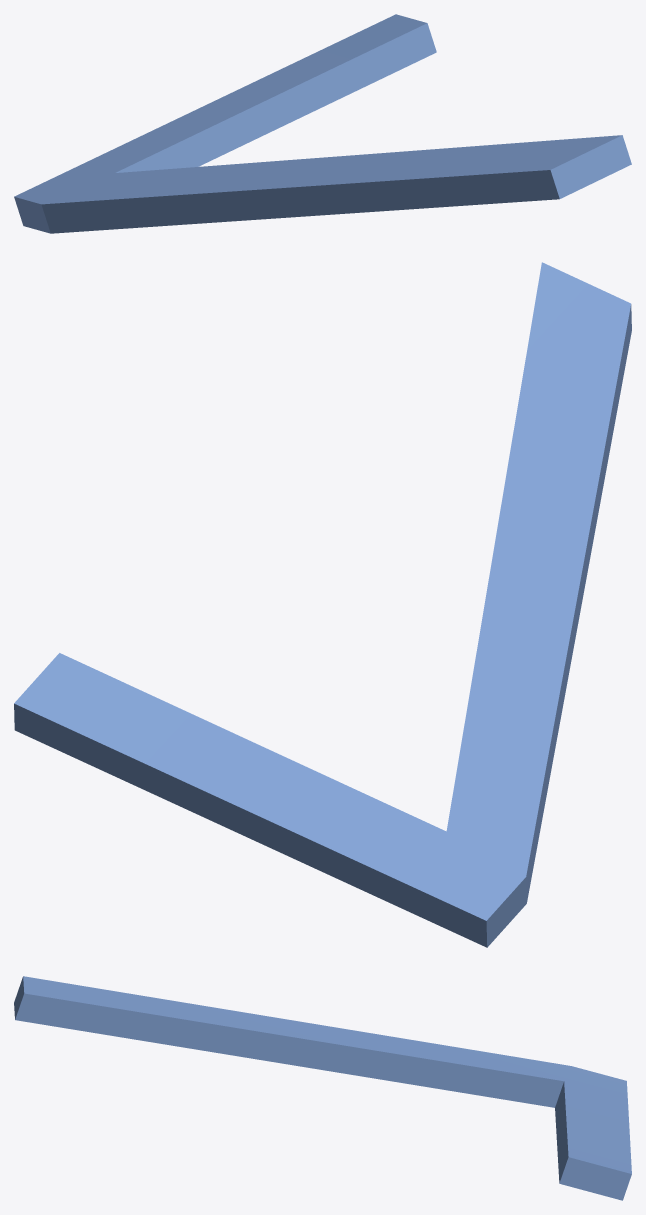
File: New_Number_7.gltf
3 views of the same model, one above another, from view 1: azimuth 30°, elevation 25°; view 2: azimuth 150°, elevation 25°; view 3: azimuth 270°, elevation 25° (orthographic). The views are drawn at different scales.
Parts seen in each view (by area): view 1: Part 691; view 2: Part 691; view 3: Part 691.
Boxes of the visible parts, x1,y1,x2,y2 form: Part 691: [14, 14, 631, 233]; Part 691: [14, 262, 631, 947]; Part 691: [14, 976, 631, 1200].
Bounding box in the file's own units: 0.00365 × 0.0023 × 0.00541.
